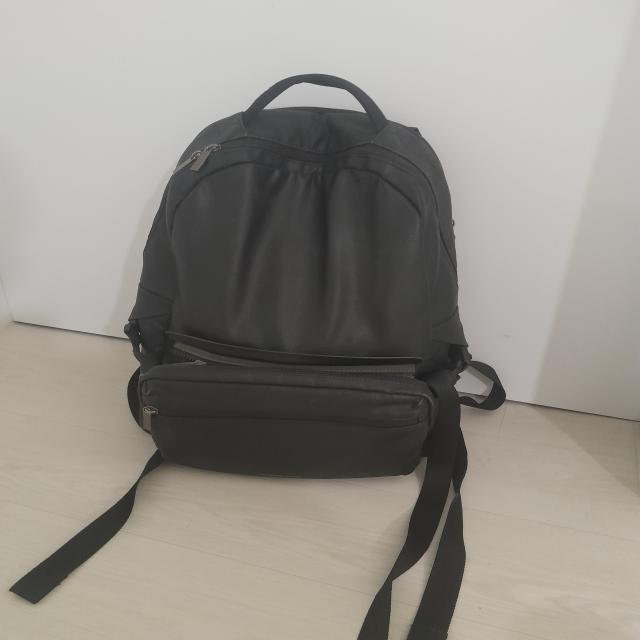backpack: (11, 72, 507, 640)
